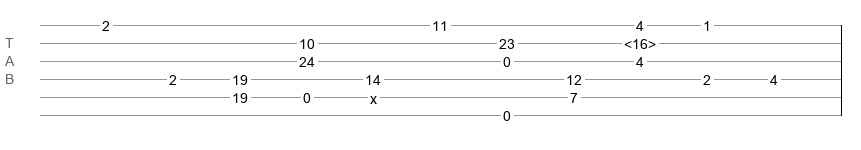0: (303, 90, 311, 100), (503, 108, 511, 118), (503, 54, 511, 64)
1: (703, 18, 711, 28)
10: (299, 36, 315, 46)
11: (432, 18, 448, 28)
12: (566, 72, 582, 82)
14: (365, 72, 381, 82)
19: (232, 72, 248, 82), (232, 90, 248, 100)
2: (102, 18, 110, 28), (169, 72, 177, 82), (703, 72, 711, 82)
23: (499, 36, 515, 46)
24: (299, 54, 315, 64)
4: (636, 18, 644, 28), (636, 54, 644, 64), (770, 72, 778, 82)
7: (570, 90, 578, 100)
harmonic: (624, 36, 656, 46)
x: (370, 91, 377, 99)
